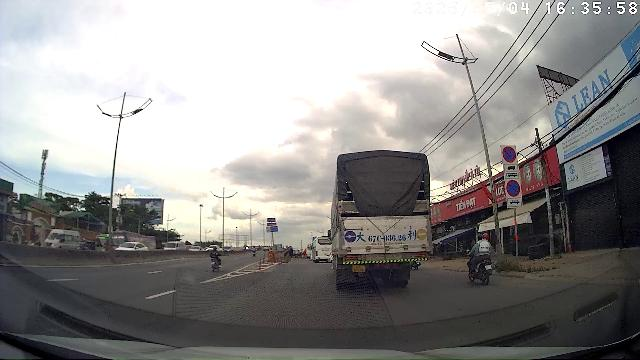130-cam-dung-va-do-xe: (502, 146, 516, 162)
131a-cam-do-xe: (507, 179, 521, 197)
